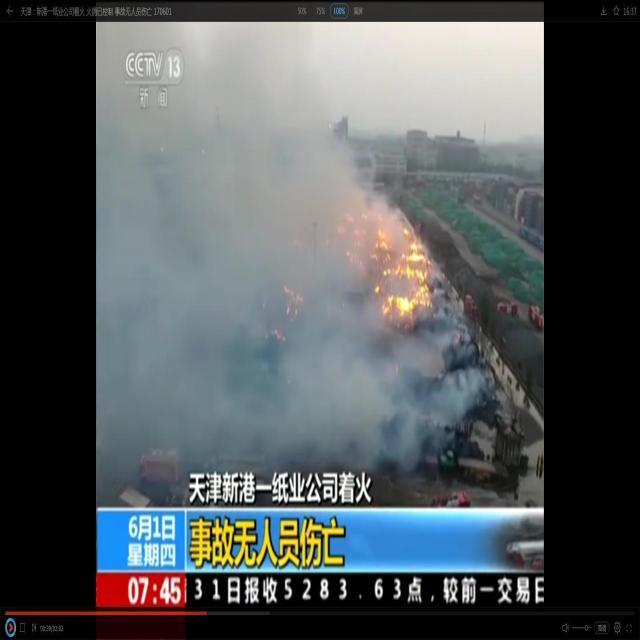Fire: (367, 222, 437, 322)
Smoke: (95, 20, 495, 500)
